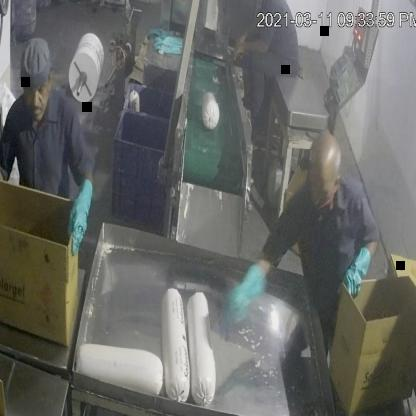no_glove: (228, 35, 275, 67)
